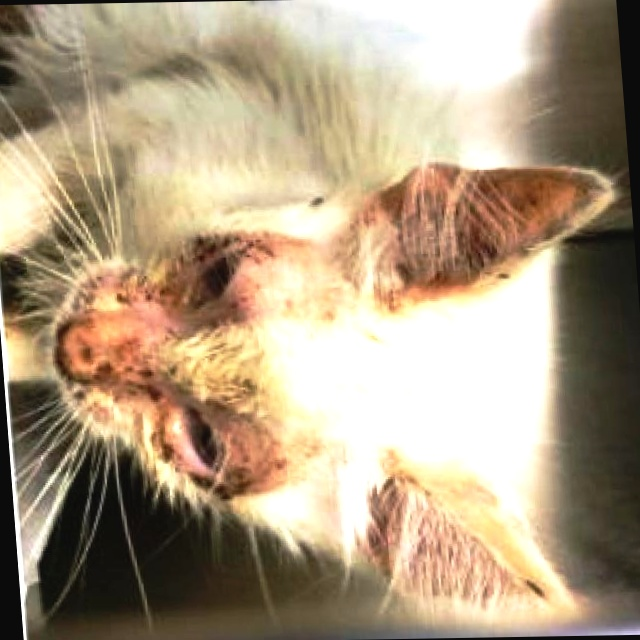ringworm: (212, 246, 301, 331), (88, 326, 171, 403), (223, 421, 301, 501), (126, 268, 201, 311)
